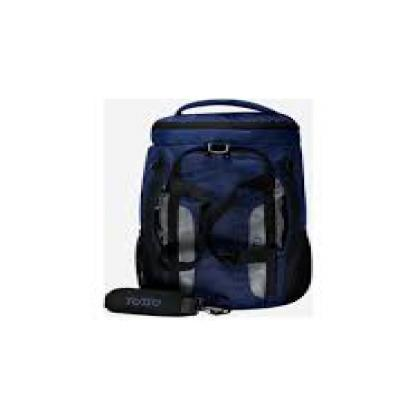morral: (105, 99, 331, 320)
